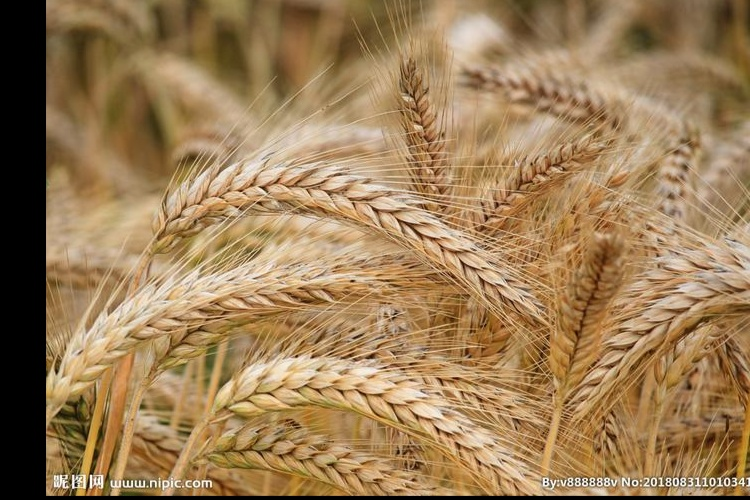wheat: (55, 249, 421, 397), (141, 165, 533, 303), (203, 355, 527, 489)
